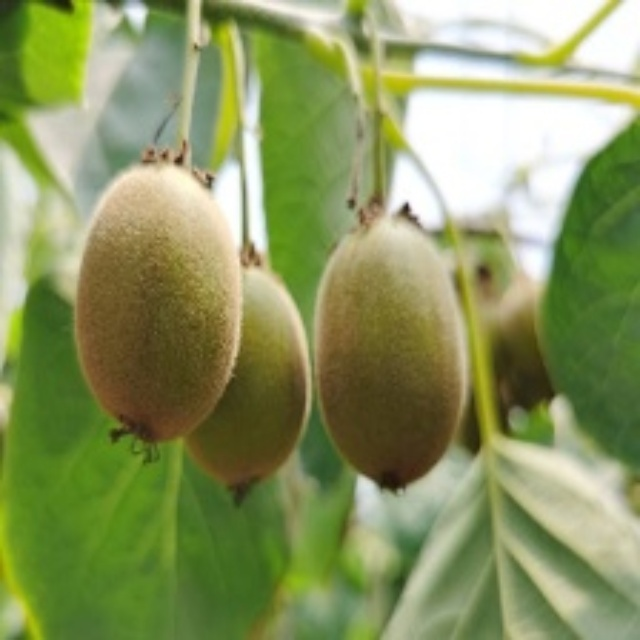kiwi: (309, 199, 470, 496), (79, 164, 234, 437), (186, 270, 309, 515)
